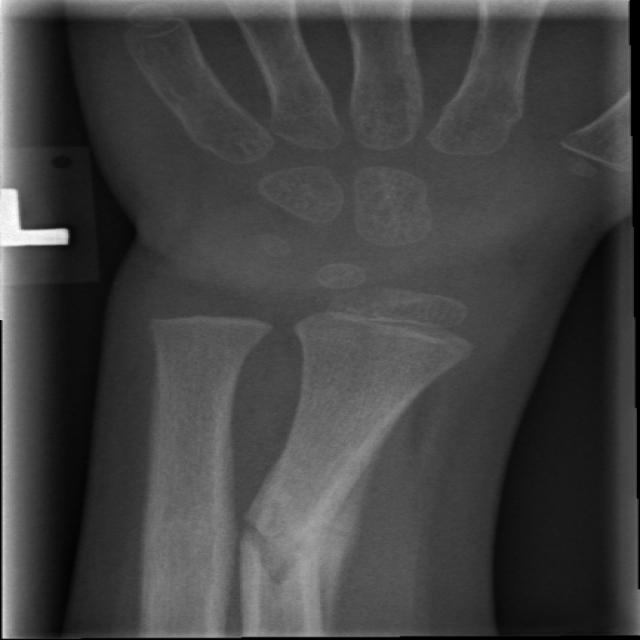radius fracture: (228, 476, 404, 636)
